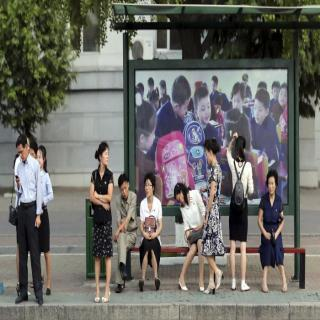person - v3 P: (11, 128, 54, 314), (89, 144, 117, 302), (170, 172, 208, 284), (228, 130, 254, 290), (202, 138, 228, 292), (258, 164, 288, 293), (34, 145, 57, 296), (111, 170, 136, 290), (140, 172, 162, 286)
